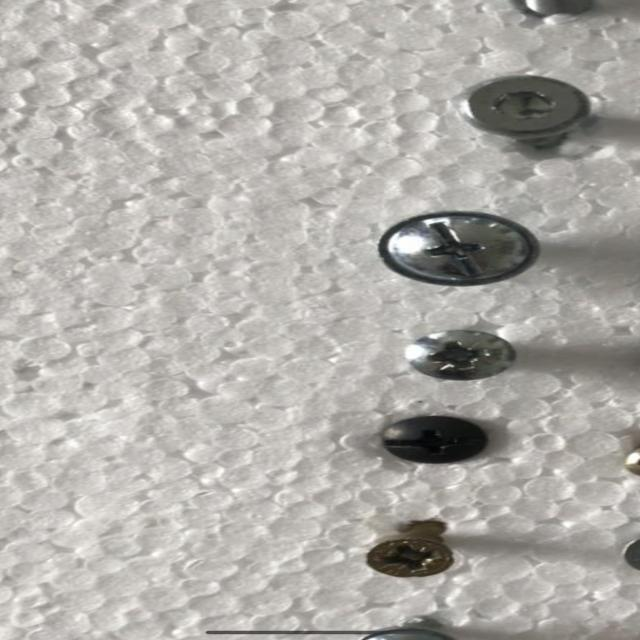HexScrew: (457, 75, 593, 138)
PhillipsScrewHead: (375, 210, 545, 286), (404, 330, 516, 380), (380, 415, 490, 465), (361, 537, 457, 578)
